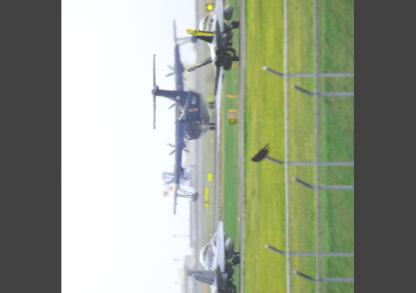F15: (184, 0, 240, 94), (185, 203, 241, 292)
Tu95: (150, 16, 215, 213)
